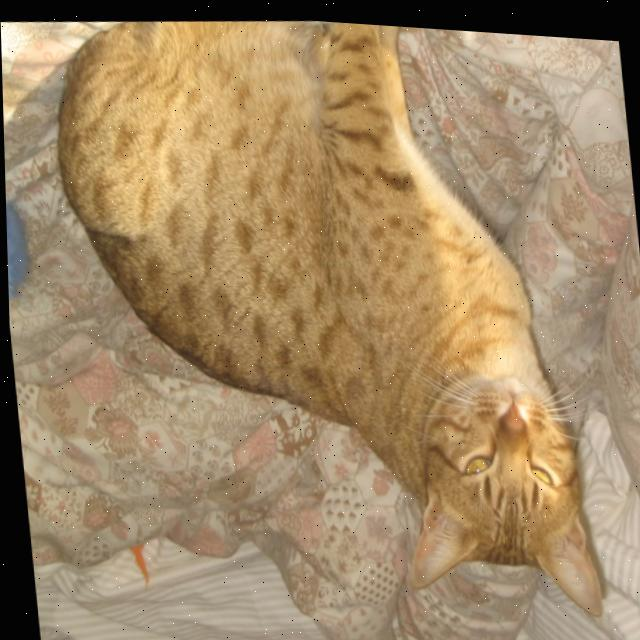Egyptian Mau: (39, 2, 603, 640)
